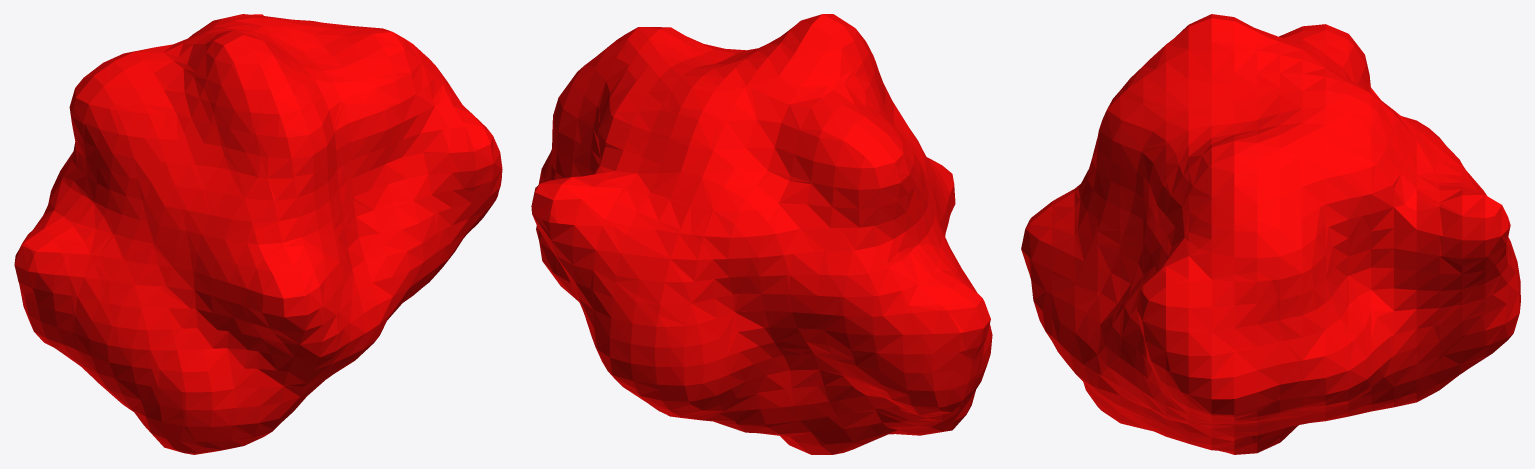
The model's file is tsaE_coarse.dae.
3 views of the same model, side by side, from view 1: azimuth 30°, elevation 25°; view 2: azimuth 150°, elevation 25°; view 3: azimuth 270°, elevation 25° (orthographic). The views are drawn at different scales.
Visible parts, largest first — view 1: tsaE; view 2: tsaE; view 3: tsaE.
Part boxes in pixels (<box>): tsaE: <box>14,14,502,454</box>; tsaE: <box>531,14,992,454</box>; tsaE: <box>1021,14,1520,454</box>.
Bounding box in the file's own units: 49.92 × 41.56 × 43.27.
